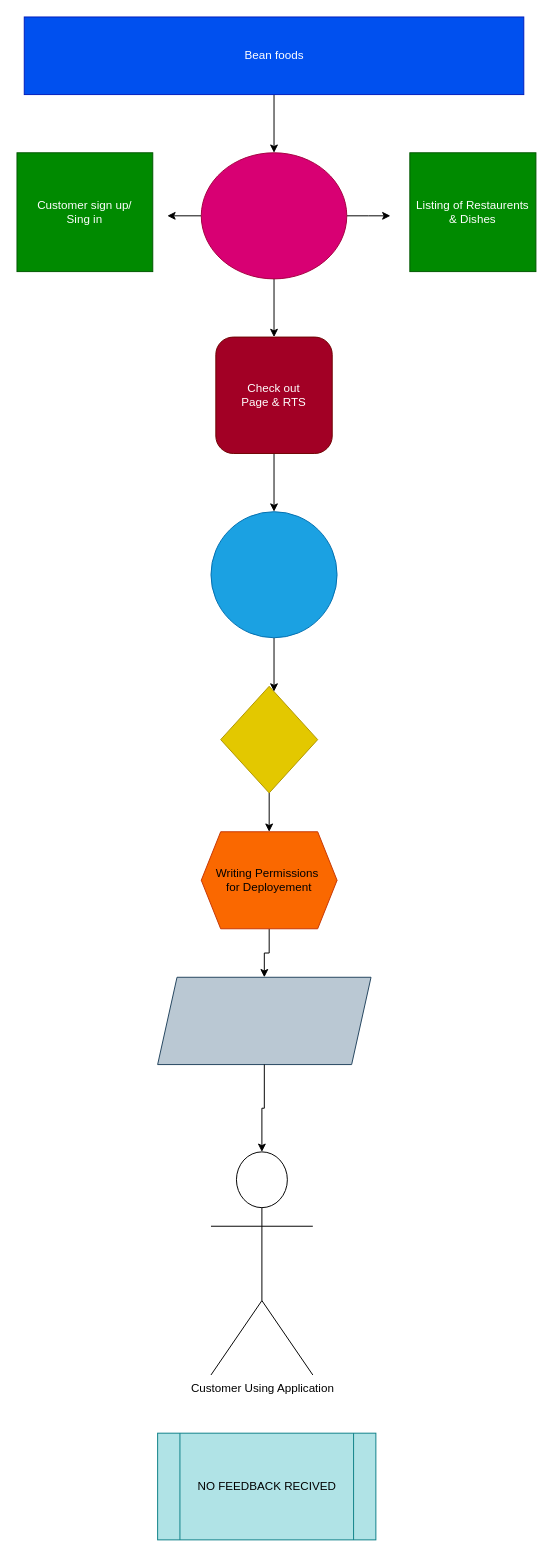
The diagram is 553 pixels wide and 1557 high, and some of its shapes have lost their labels. The shapes that lost their labels are listed below. From the top down, each one's centre as x and y in pixels, then its label:
At point (273, 215): "Design UI/UX".
At point (273, 574): "Compiling into apk".
At point (269, 739): "No Bugs found".
At point (264, 1020): "Pushing The APK Cloud Or Appstore".
